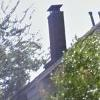Chimney: (40, 2, 73, 60)
